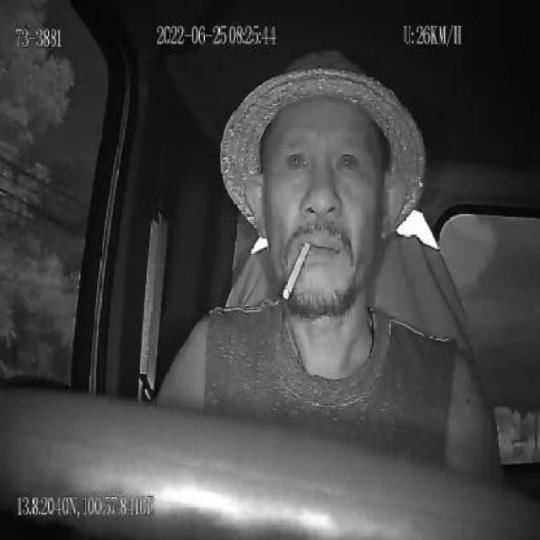smoking: (282, 241, 310, 303)
